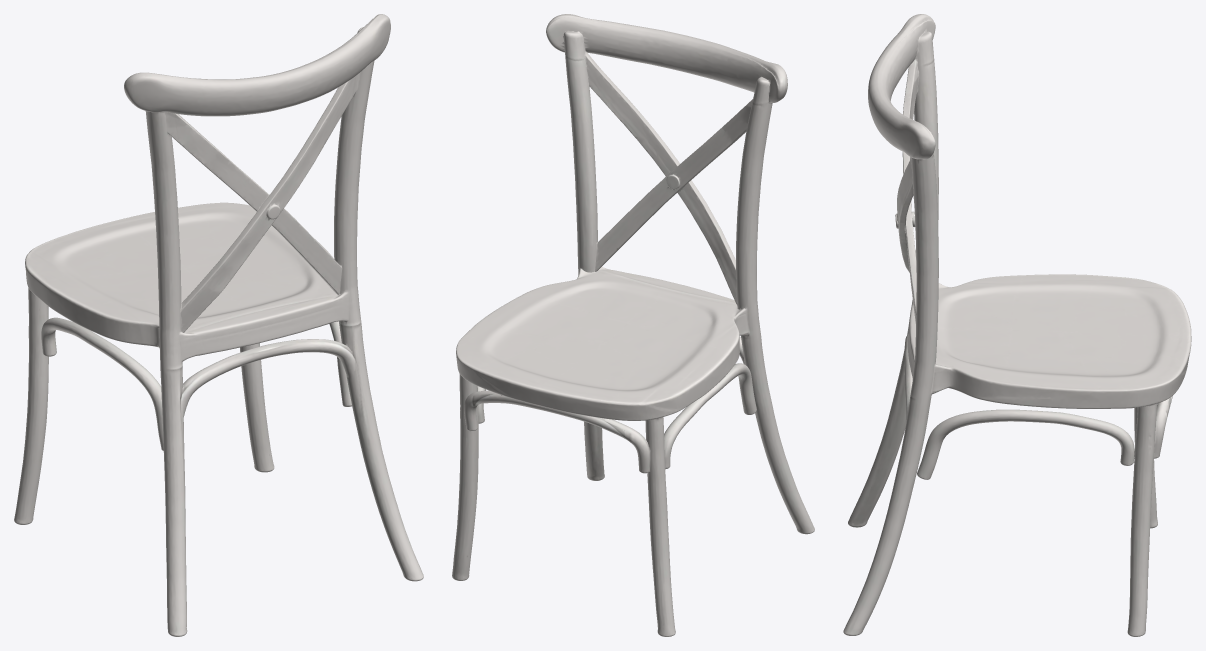
Rendered from chair-x-white.glb.
3 views of the same model, side by side, from view 1: azimuth 30°, elevation 25°; view 2: azimuth 150°, elevation 25°; view 3: azimuth 270°, elevation 25° (orthographic). The views are drawn at different scales.
Parts seen in each view (by area): view 1: tripo_node_9ffcefa6-6acd-4b63-b76b-3d7a0fde8778; view 2: tripo_node_9ffcefa6-6acd-4b63-b76b-3d7a0fde8778; view 3: tripo_node_9ffcefa6-6acd-4b63-b76b-3d7a0fde8778.
Part boxes in pixels (<box>): tripo_node_9ffcefa6-6acd-4b63-b76b-3d7a0fde8778: <box>14,14,423,636</box>; tripo_node_9ffcefa6-6acd-4b63-b76b-3d7a0fde8778: <box>452,14,814,636</box>; tripo_node_9ffcefa6-6acd-4b63-b76b-3d7a0fde8778: <box>843,14,1191,636</box>.
Size of the model in its own units: 0.4724 by 0.92 by 0.5693.
1 material, 1 textured.
